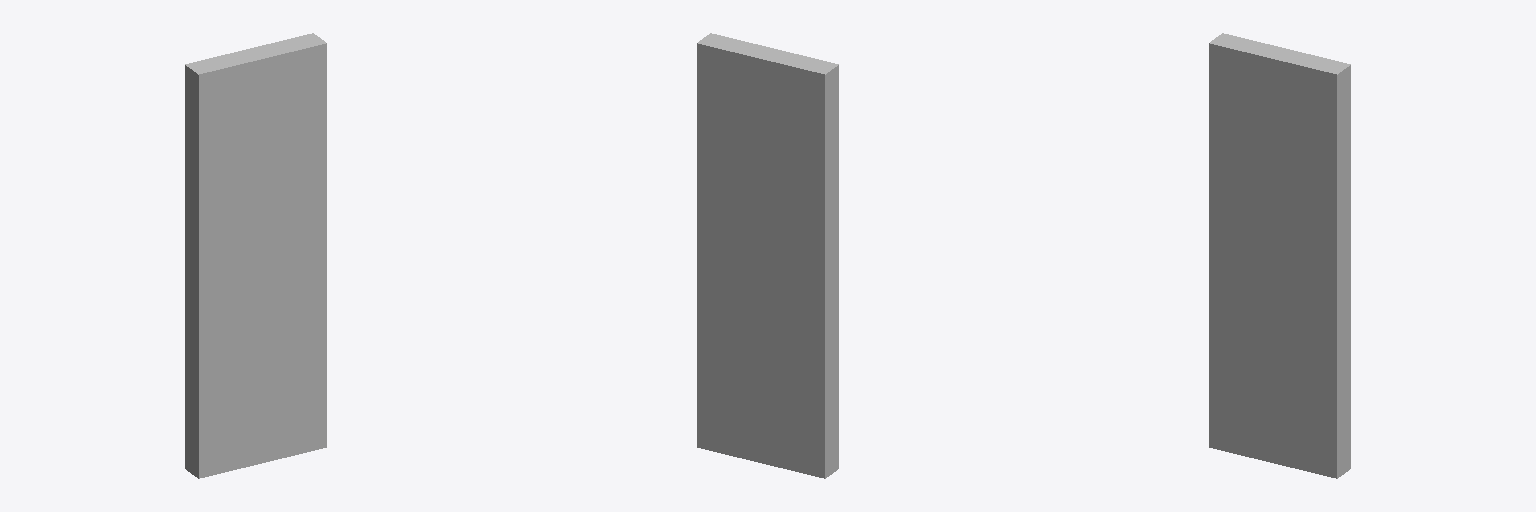
File: oak_talldoor_-_converted.obj
3 views of the same model, side by side, from view 1: azimuth 30°, elevation 25°; view 2: azimuth 150°, elevation 25°; view 3: azimuth 330°, elevation 25° (orthographic).
Parts seen in each view (by area): view 1: cube; view 2: cube; view 3: cube.
Boxes of the visible parts, box(x1,y1,x2,y2) form: cube: box(185, 33, 326, 478); cube: box(697, 33, 838, 478); cube: box(1209, 33, 1350, 478).
Bounding box in the file's own units: 1 × 3 × 0.1875.